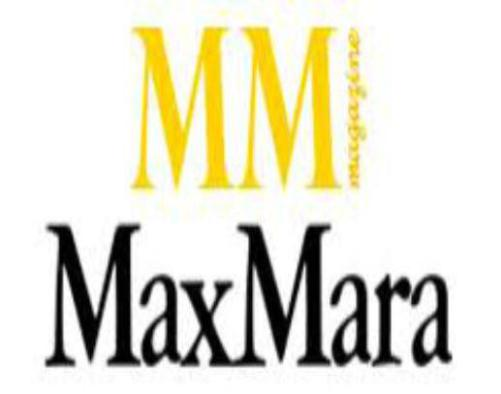MAX-MARA: (39, 218, 454, 366)
